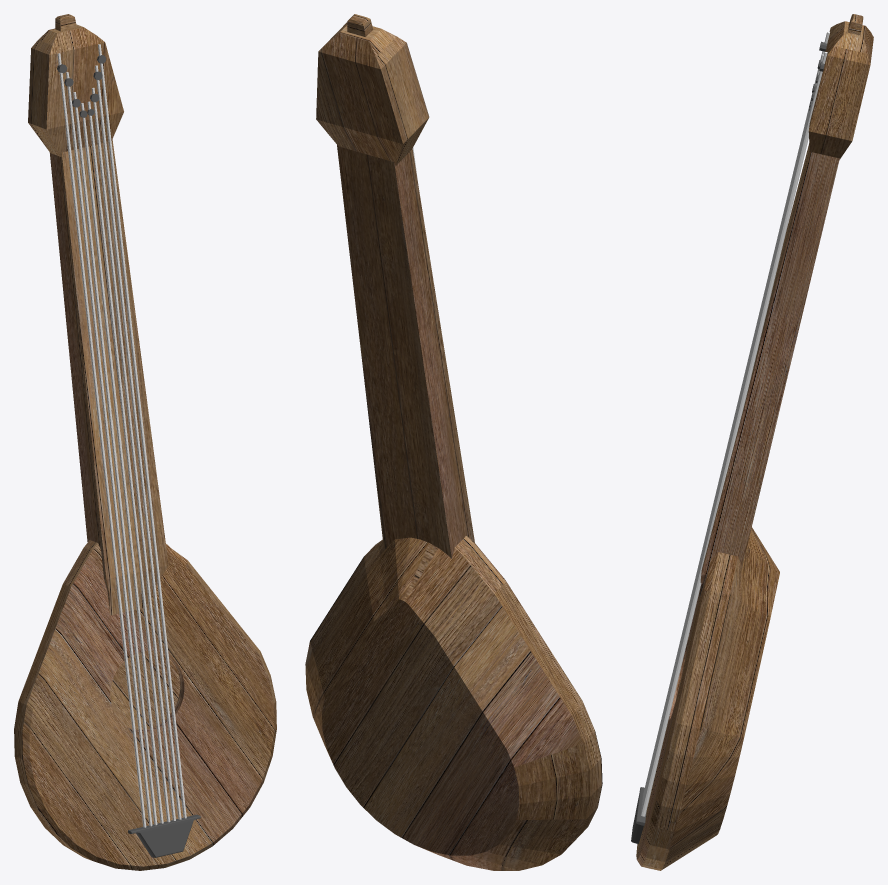
File: tambura_pirinska.fbx
3 renders of one model, left to right at view 1: azimuth 30°, elevation 25°; view 2: azimuth 150°, elevation 25°; view 3: azimuth 270°, elevation 25°, orthographic. The views are drawn at different scales.
Parts seen in each view (by area): view 1: Cylinder.001, Cylinder.024, Cylinder.032, Cylinder.031, Cylinder.018, Cylinder.023, Cylinder.019, Cylinder.021, Cylinder.033, Cylinder.022, Plane.019; view 2: Cylinder.001, Cylinder.024; view 3: Cylinder.001, Cylinder.024, Cylinder.031, Cylinder.032, Cylinder.022, Cylinder.019, Cylinder.023, Cylinder.033, Cylinder.018, Cylinder.021.
Part boxes in pixels (x1,y1,x2,y2): Cylinder.001: [14, 540, 276, 870]; Cylinder.024: [28, 14, 168, 615]; Cylinder.032: [57, 53, 146, 827]; Cylinder.031: [98, 44, 186, 818]; Cylinder.018: [66, 72, 152, 826]; Cylinder.023: [95, 65, 181, 819]; Cylinder.019: [73, 92, 157, 825]; Cylinder.021: [87, 101, 170, 822]; Cylinder.033: [91, 87, 175, 820]; Cylinder.022: [81, 103, 163, 823]; Plane.019: [128, 814, 200, 857]; Cylinder.001: [305, 535, 602, 870]; Cylinder.024: [316, 14, 474, 558]; Cylinder.001: [636, 527, 779, 870]; Cylinder.024: [699, 14, 873, 600]; Cylinder.031: [640, 52, 827, 816]; Cylinder.032: [643, 32, 829, 794]; Cylinder.022: [642, 110, 809, 803]; Cylinder.019: [642, 78, 816, 800]; Cylinder.023: [641, 71, 819, 812]; Cylinder.033: [641, 87, 815, 809]; Cylinder.018: [642, 54, 823, 797]; Cylinder.021: [641, 101, 811, 806].
Bounding box in the file's own units: 42.06 × 127 × 33.34.
